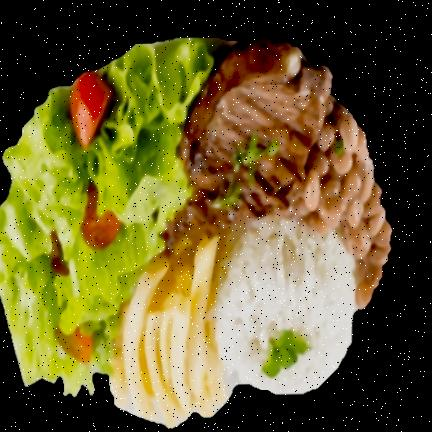beans: (276, 100, 391, 314)
meat: (169, 39, 337, 247)
potato: (106, 231, 245, 426)
rice: (209, 224, 356, 397)
salad: (0, 40, 207, 396)
